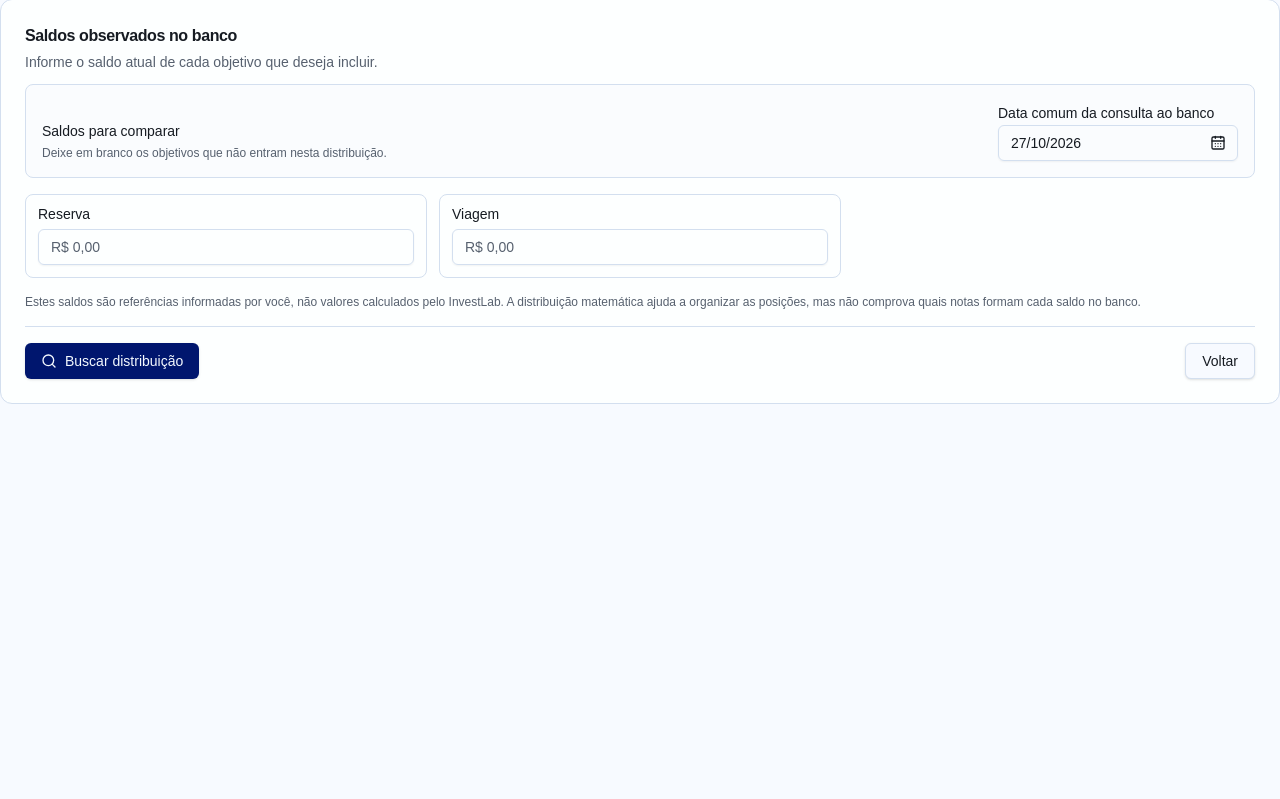
Test: PortfolioObjectiveOrganizer › sends one common date and the entered balances to preview
This screenshot has width=1280, height=799.
Type "100000" into the field labelled "Reserva". click: (226,247)
box: x1=38 y1=229 x2=414 y2=265
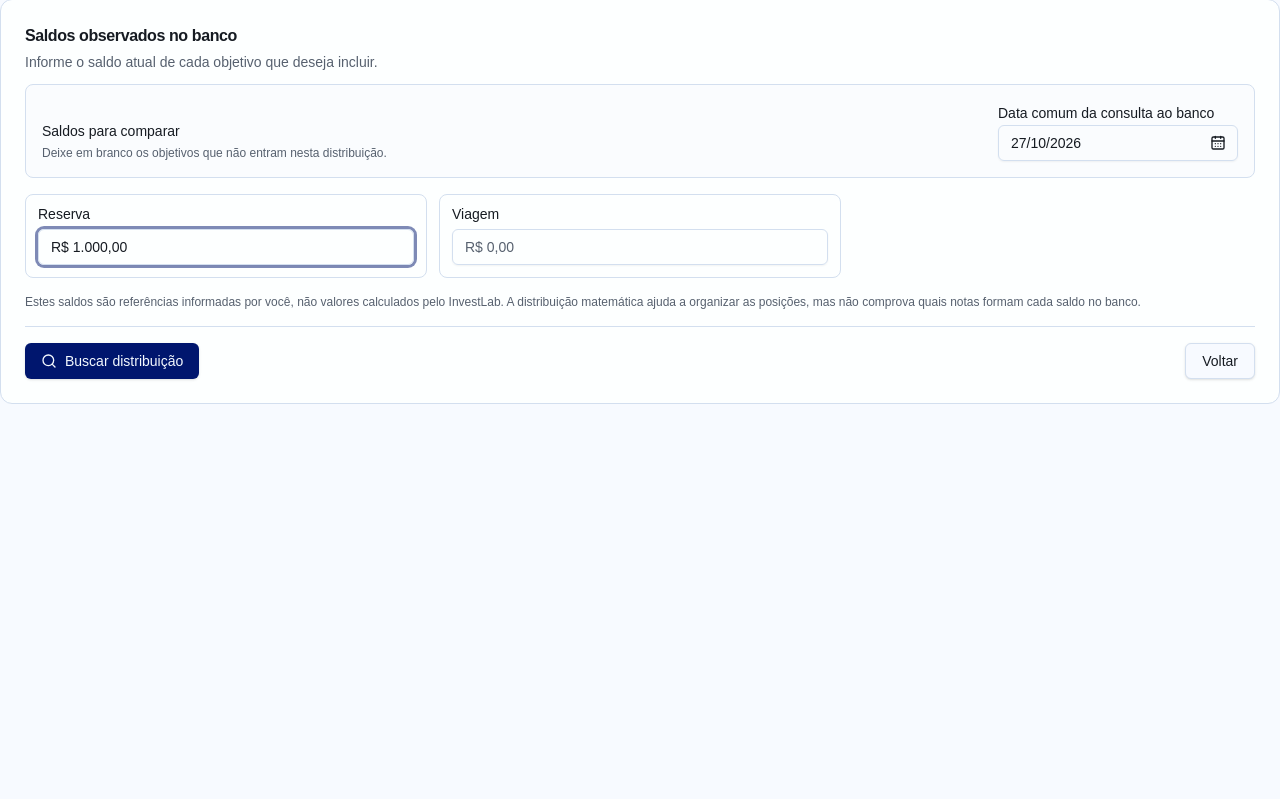
Type "50000" into the field labelled "Viagem". click: (640,247)
box: x1=452 y1=229 x2=828 y2=265
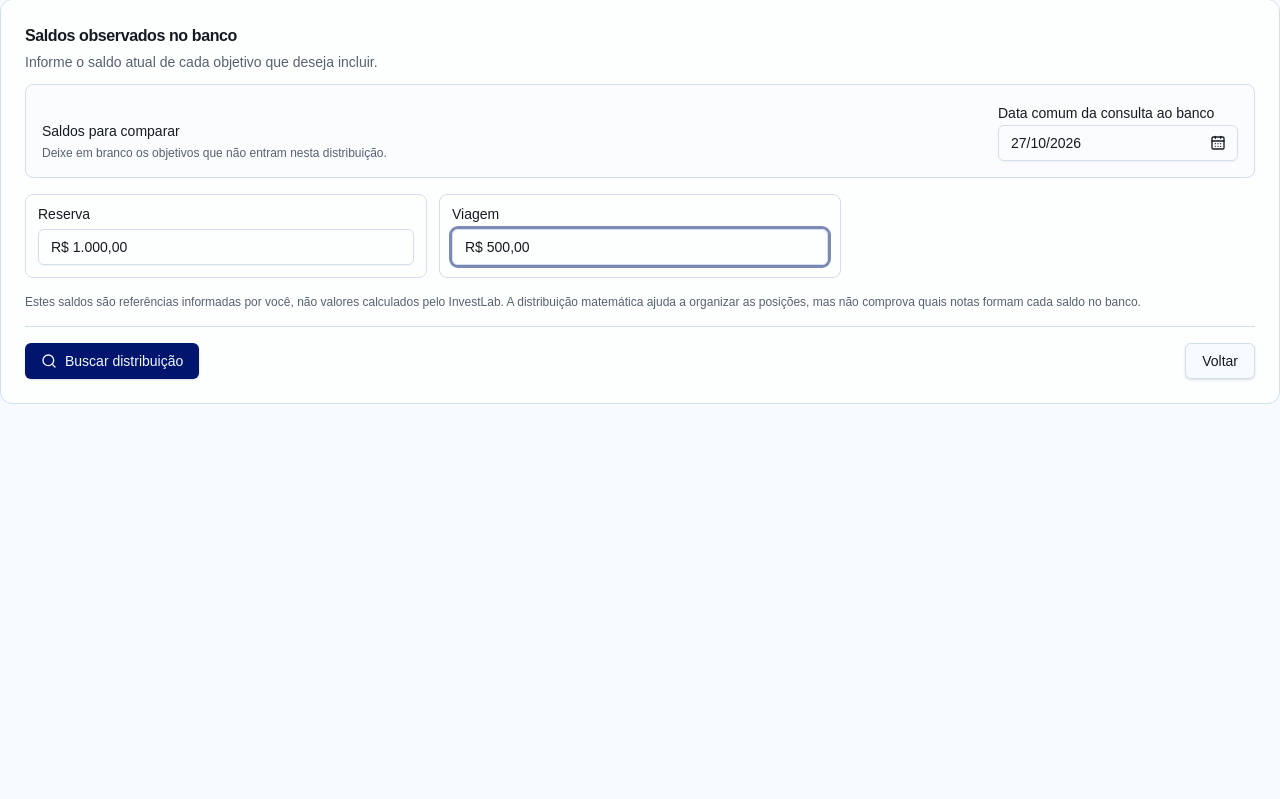
Click the button "Buscar distribuição". click: (112,361)
box: x1=25 y1=343 x2=199 y2=379
(page scrolled)
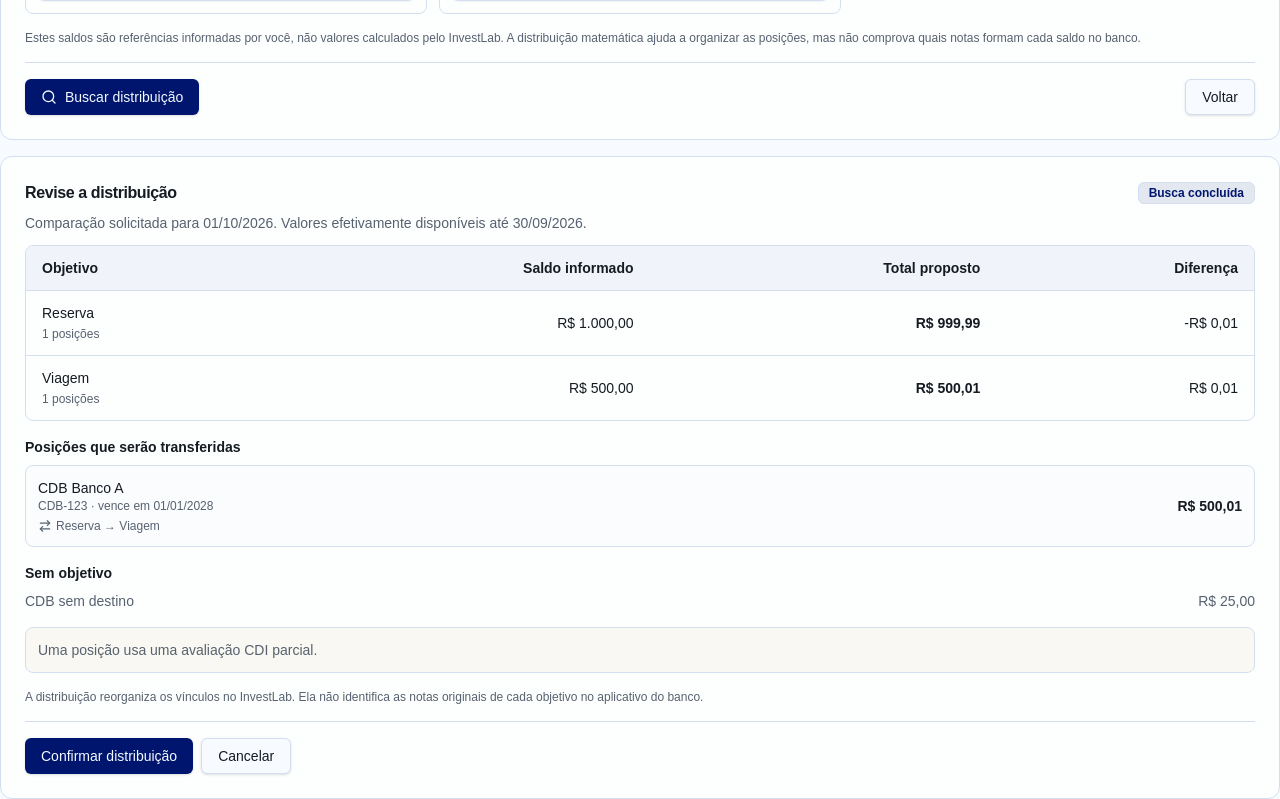
Check: the text "Revise a distribuição" is shown, box x1=25 y1=181 x2=177 y2=205
Check: the text "Valores efetivamente disponíveis até 30/09/2026" is shown, box x1=25 y1=215 x2=587 y2=231
Check: the column heading "Saldo informado" is shown, box x1=266 y1=246 x2=650 y2=290
